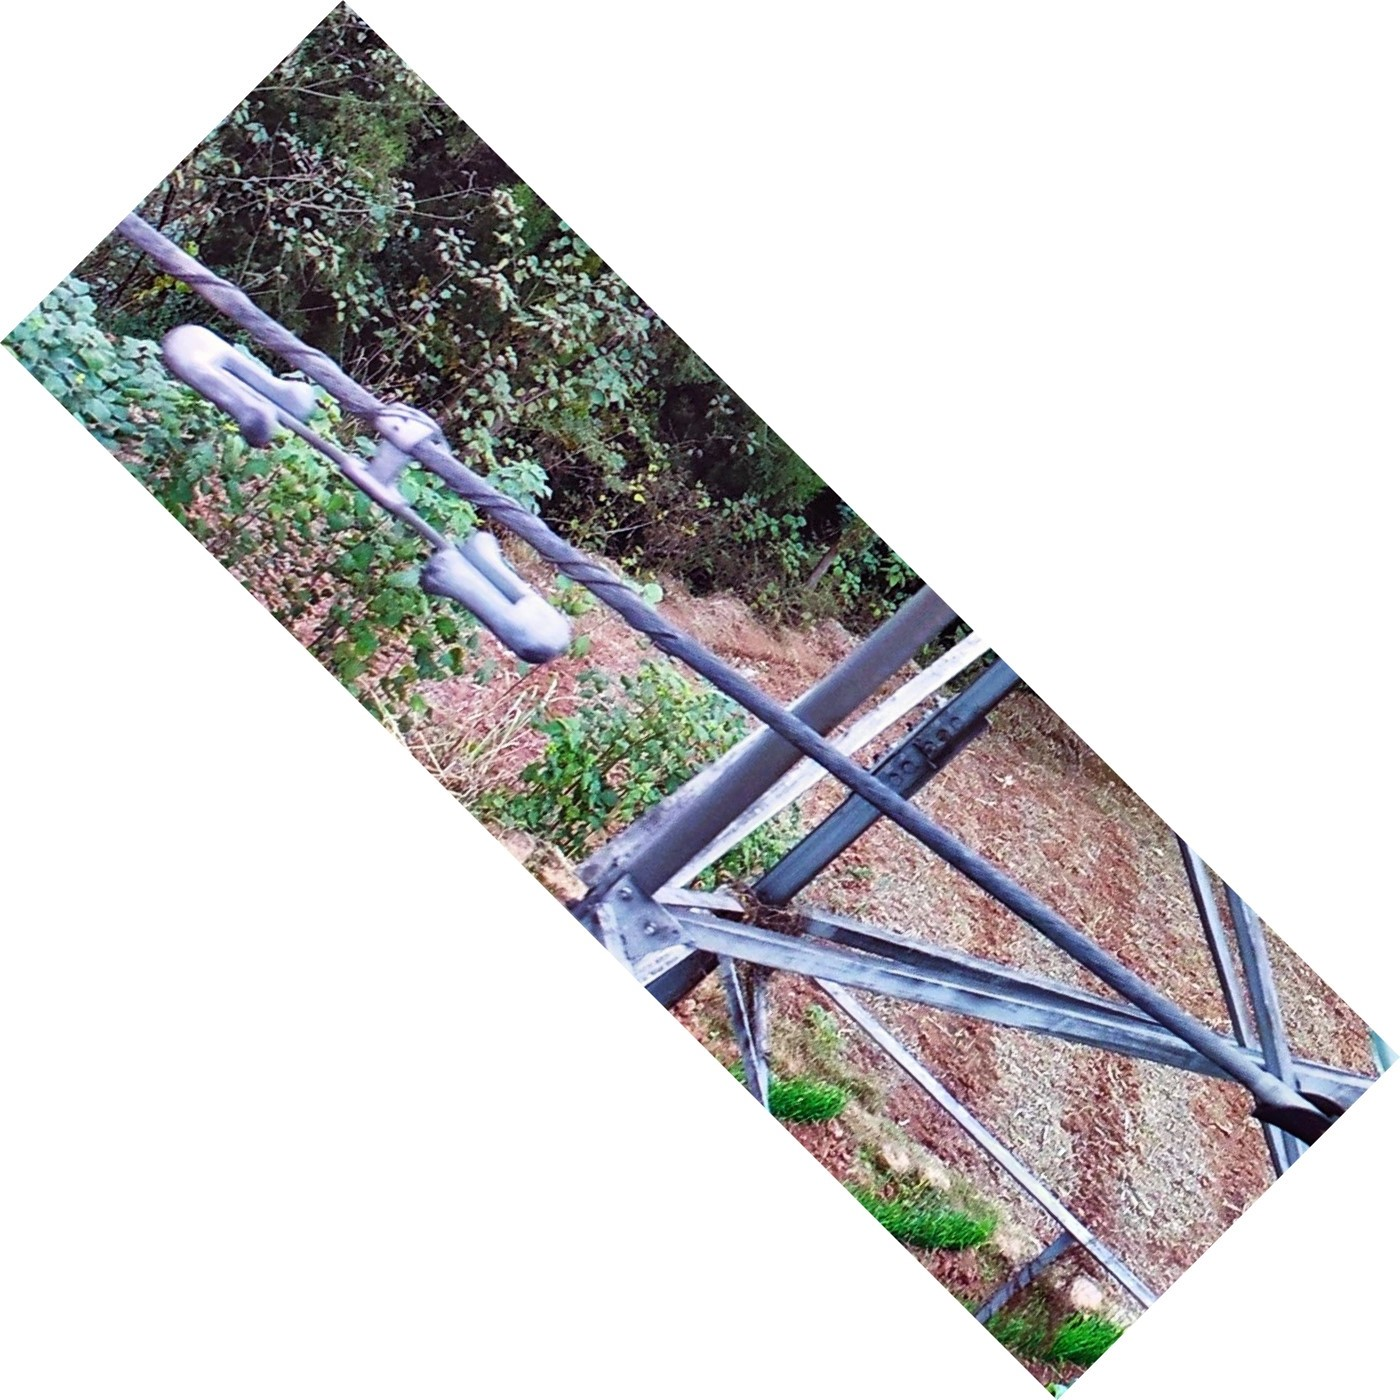Shockproof hammer: (140, 277, 585, 676)
